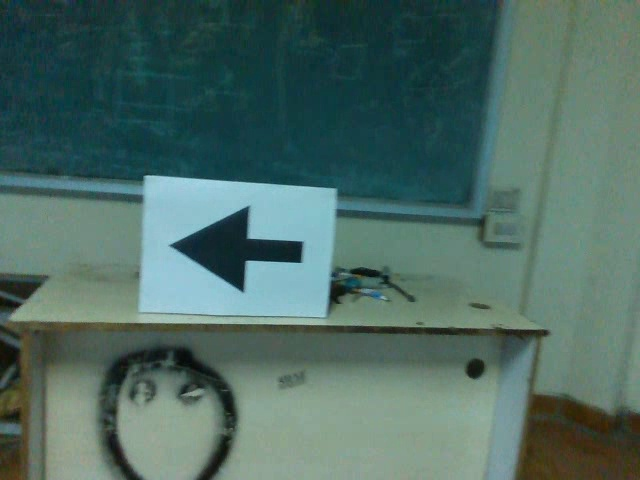Left: (167, 199, 307, 301)
